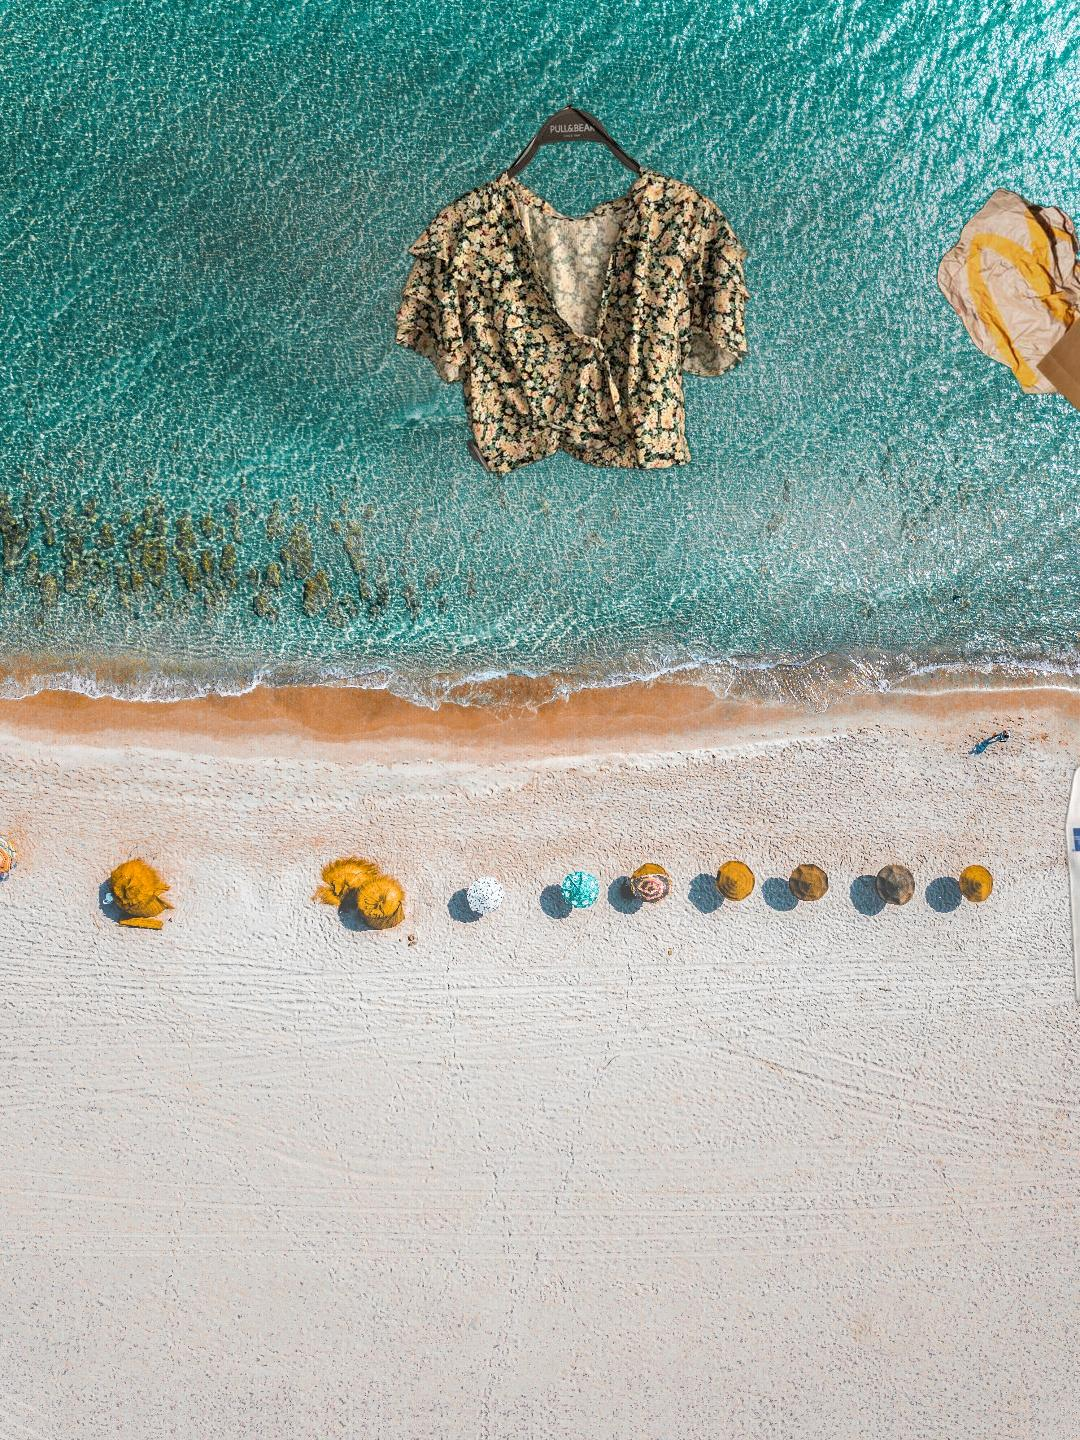clothes: (388, 41, 755, 483)
paper: (1060, 741, 1080, 1007)
paper-bag: (934, 185, 1080, 417)
